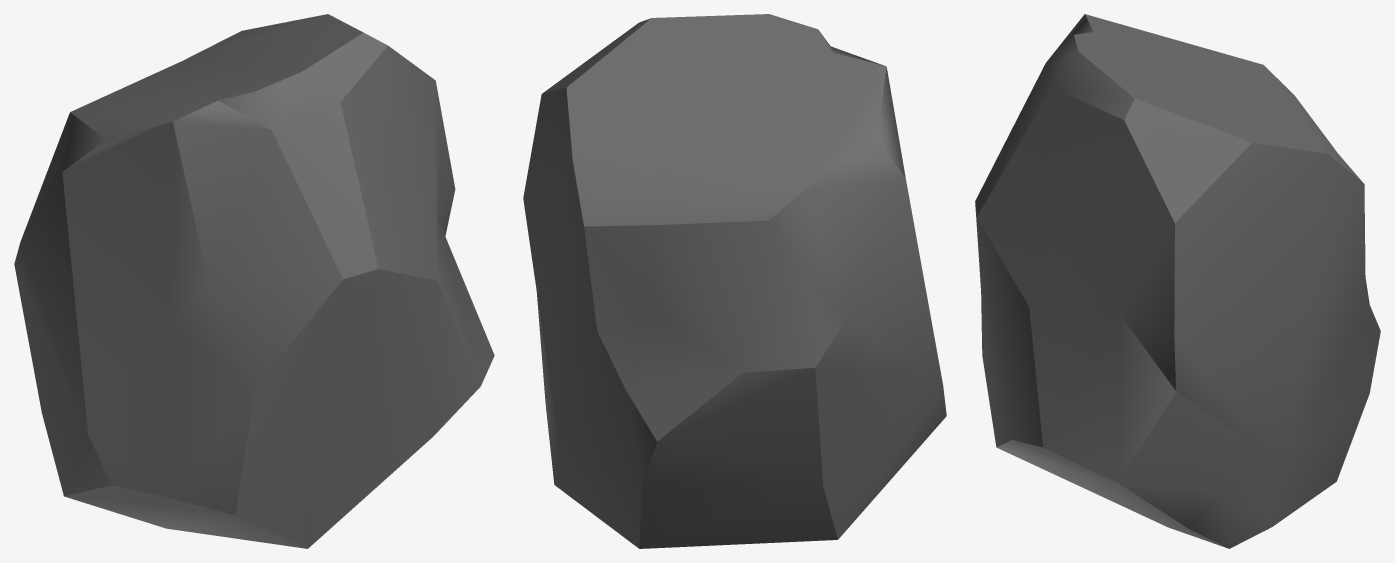
Rendered from Stone_10.fbx.
3 renders of one model, left to right at view 1: azimuth 30°, elevation 25°; view 2: azimuth 150°, elevation 25°; view 3: azimuth 270°, elevation 25°, orthographic. The views are drawn at different scales.
Visible parts, largest first — view 1: Stone_10; view 2: Stone_10; view 3: Stone_10.
Boxes of the visible parts, <box> form: Stone_10: <box>14,14,494,548</box>; Stone_10: <box>523,14,946,548</box>; Stone_10: <box>975,14,1380,548</box>.
Bounding box in the file's own units: 163 × 182 × 147.
